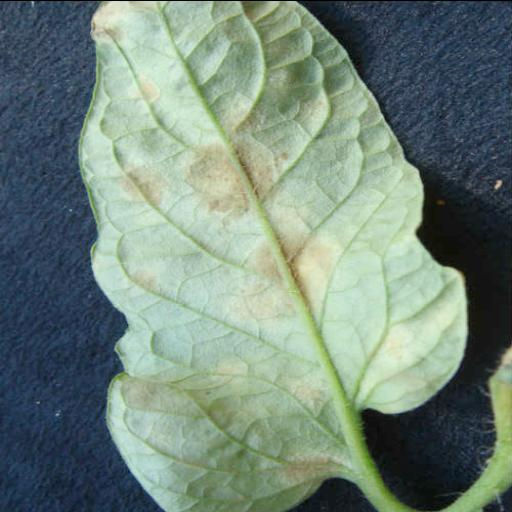disease_tomato: (80, 0, 468, 512)
